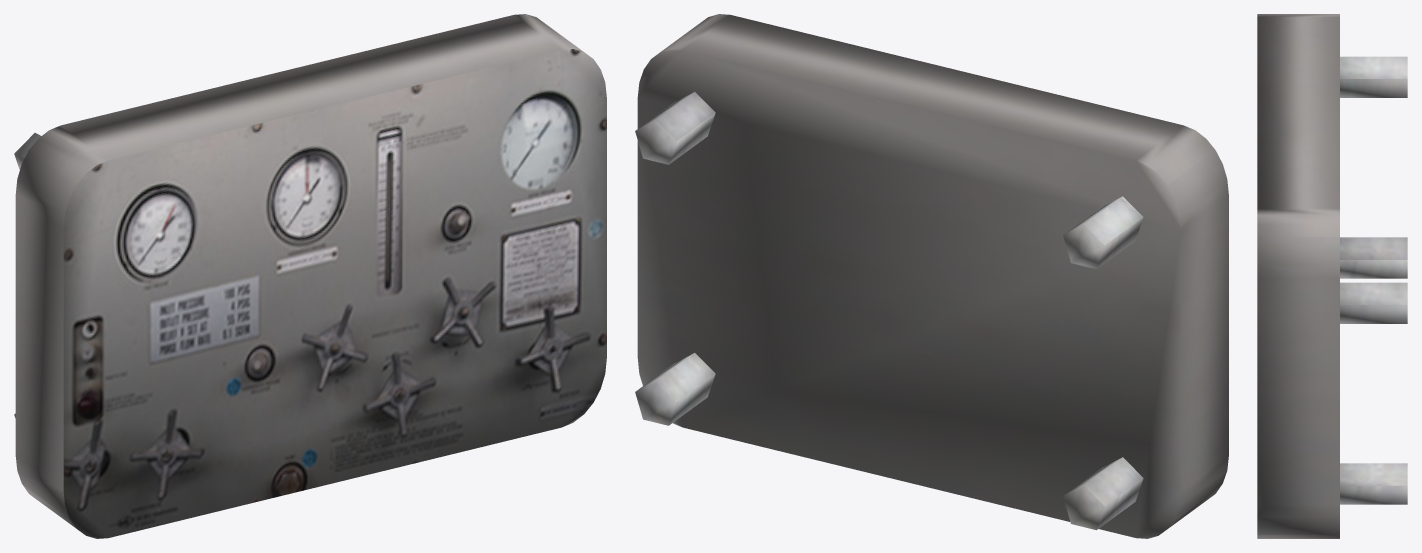
Rendered from AirPressure.obj.
3 renders of one model, left to right at view 1: azimuth 30°, elevation 25°; view 2: azimuth 150°, elevation 25°; view 3: azimuth 270°, elevation 25°, orthographic. The views are drawn at different scales.
Visible parts, largest first — view 1: AirPressure.obj; view 2: AirPressure.obj; view 3: AirPressure.obj.
Part boxes in pixels (box(x1,y1,x2,y2)): AirPressure.obj: box(14, 14, 606, 538); AirPressure.obj: box(635, 14, 1228, 538); AirPressure.obj: box(1257, 14, 1407, 538).
Bounding box in the file's own units: 3.24 × 2.15 × 0.8952.
